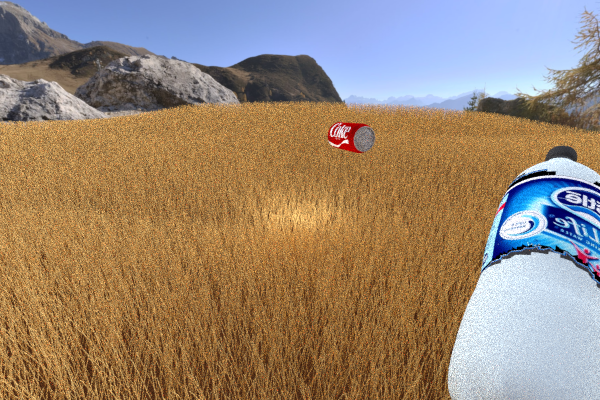bottle: (447, 145, 600, 400)
can: (327, 122, 375, 153)
